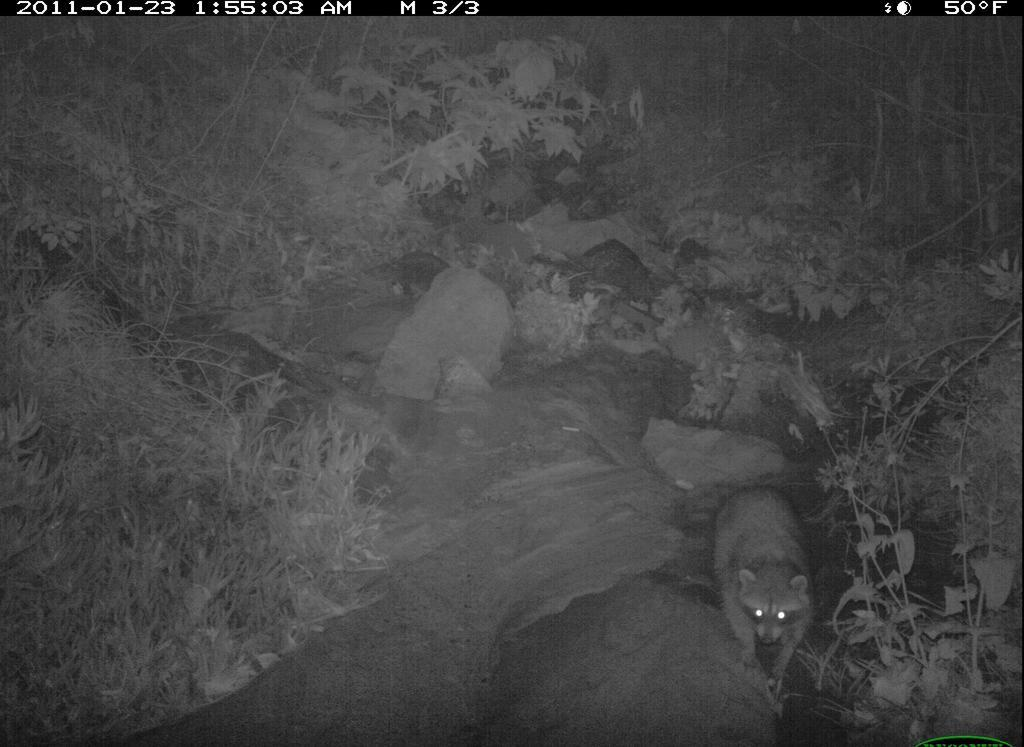raccoon: (678, 474, 865, 724)
